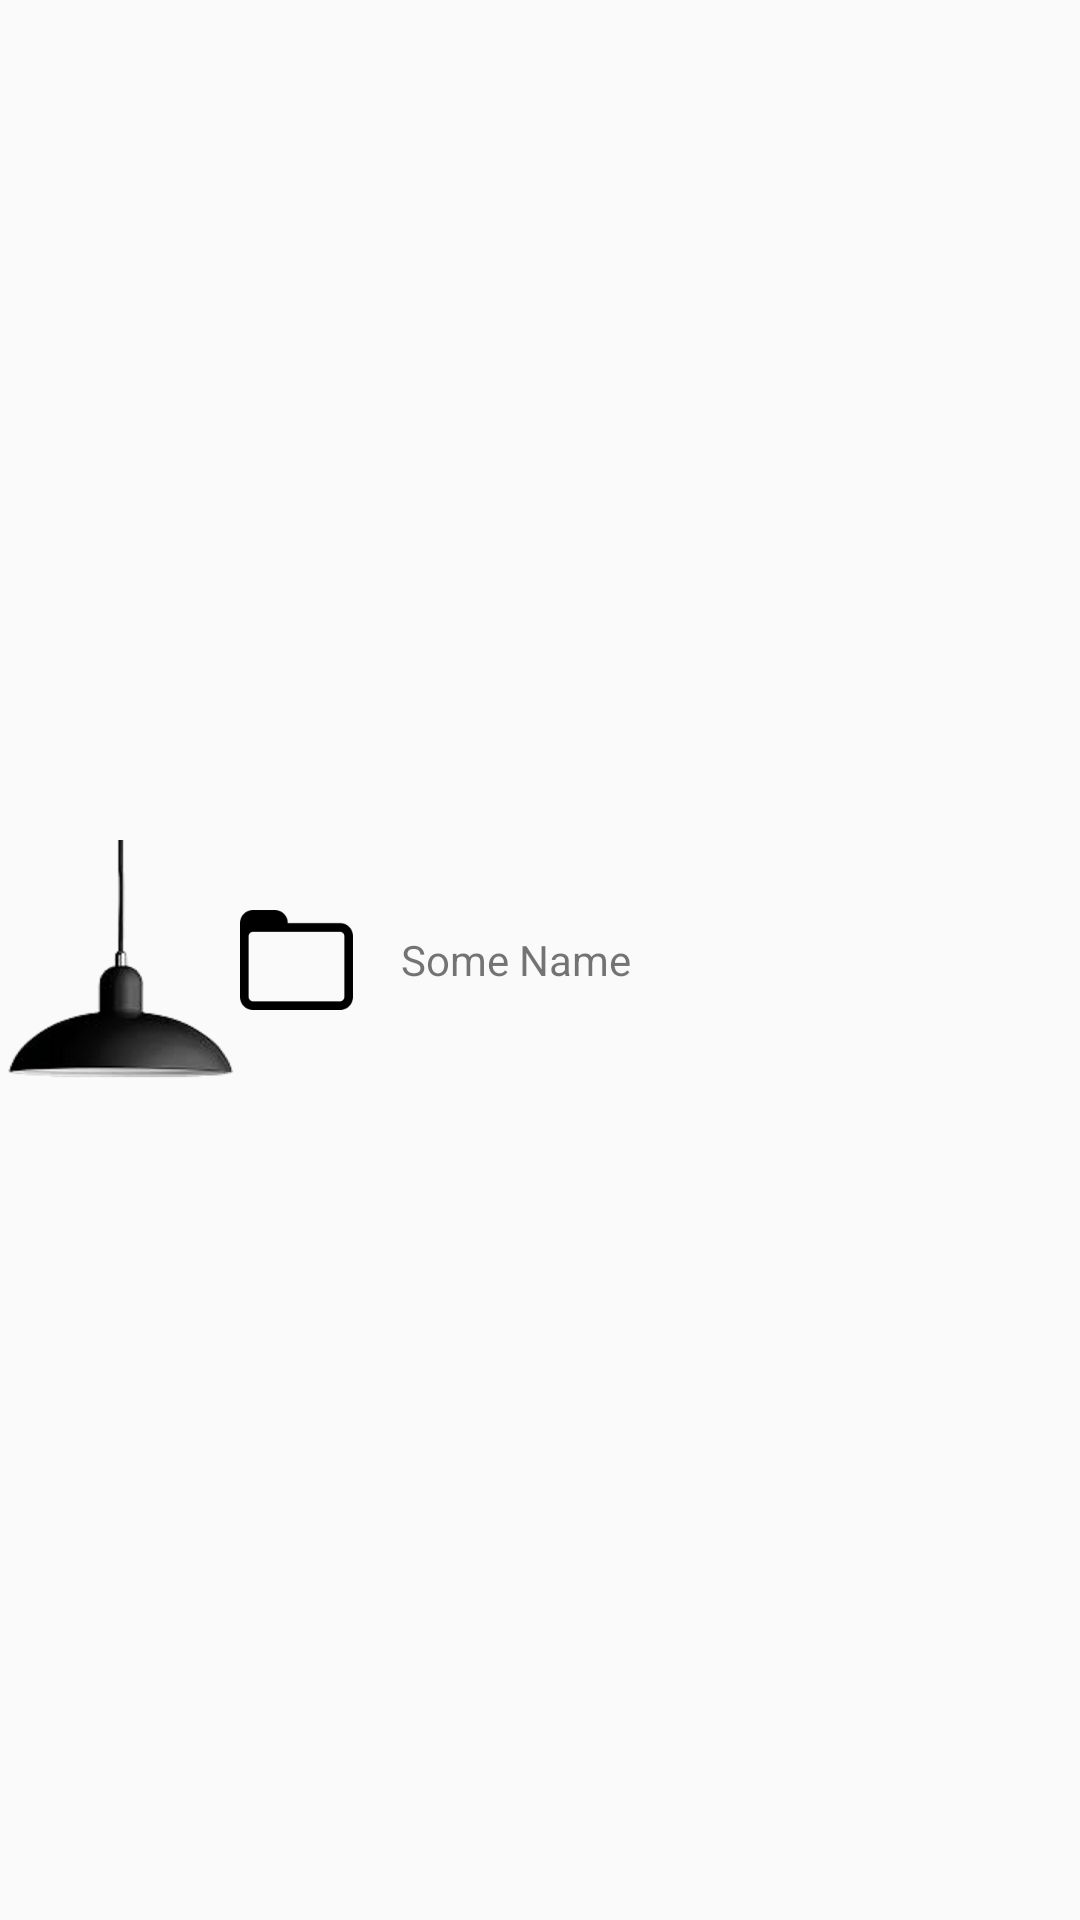

Where icons sit on this 1080 x 1920 app screen, as (x1, y1, x2, y2):
folder: (240, 910, 353, 1010)
lamp: (8, 840, 233, 1077)
